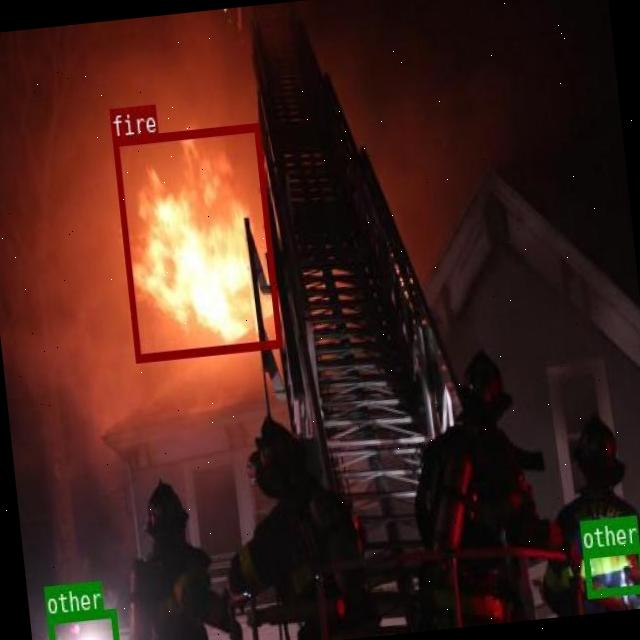fire: (112, 122, 280, 360)
